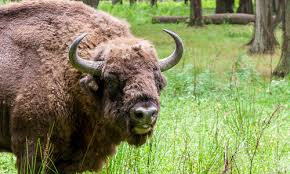zubr: (5, 1, 205, 167)
